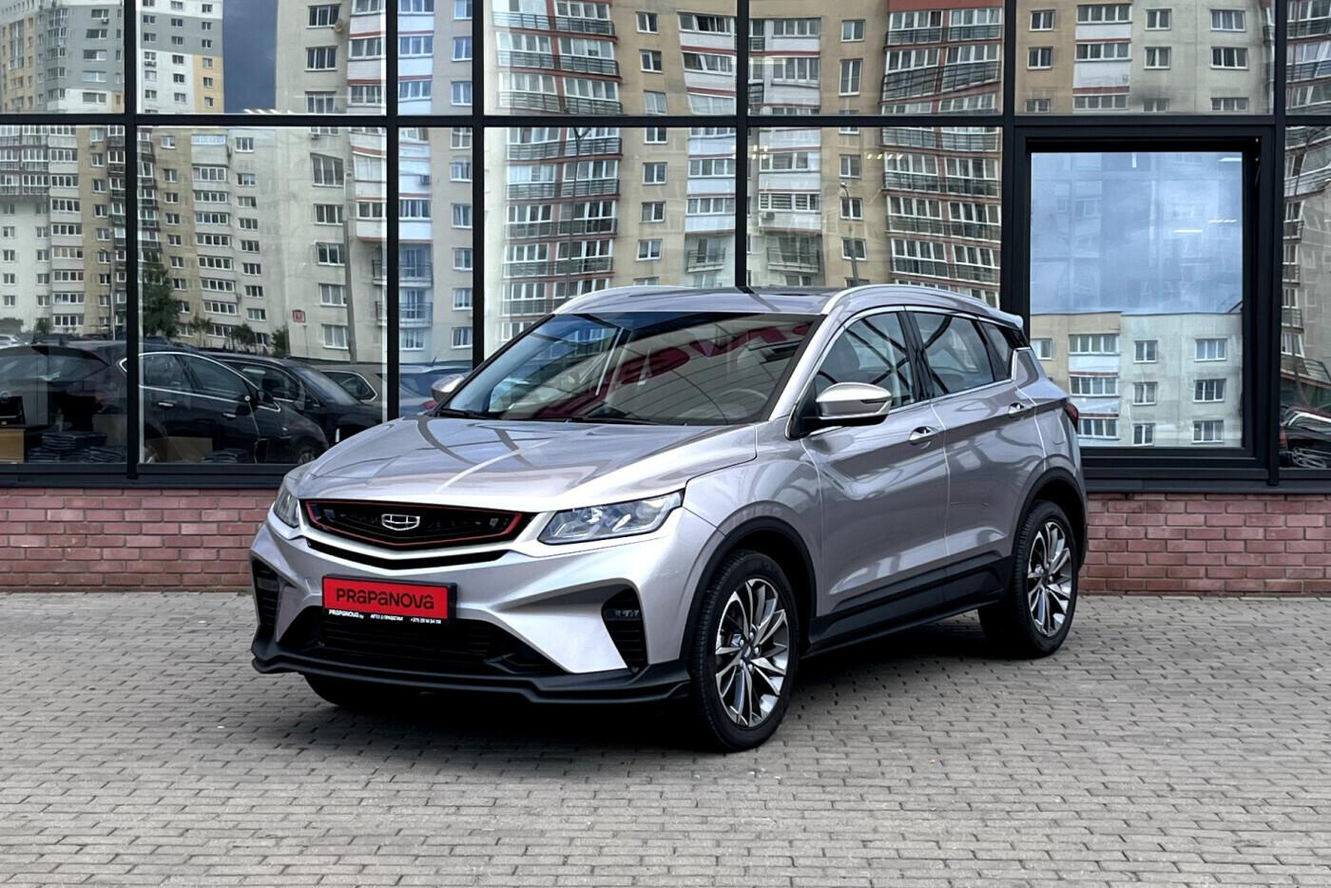Coolray_2019-2023: (238, 277, 1097, 755)
